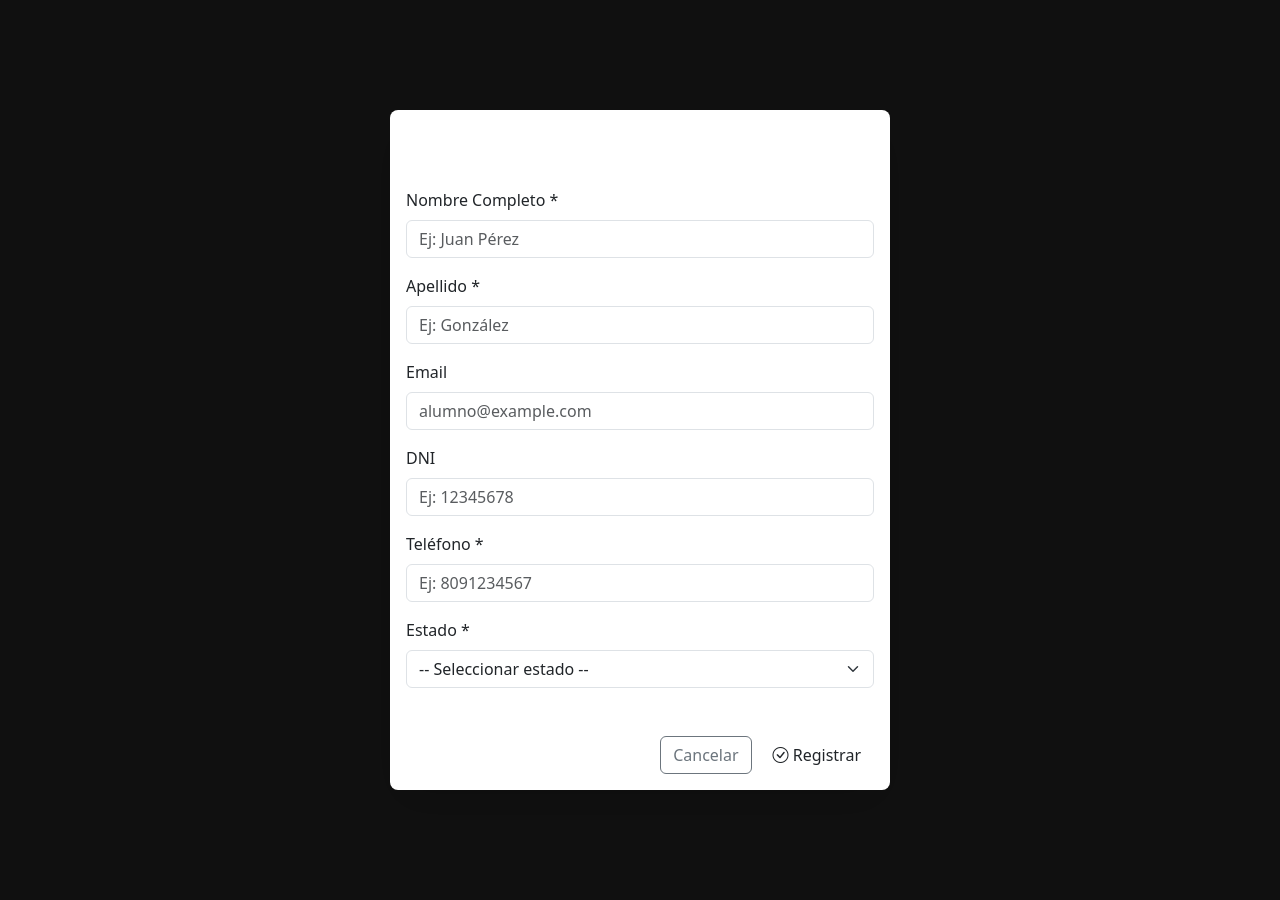
Test: registrarAlumnoModal › should show error message on submission failure
This screenshot has width=1280, height=900.
Type "Juan" into the field with id "alumno-nombre".
click(640, 239); type("Juan")  # box 406,220 -> 874,258
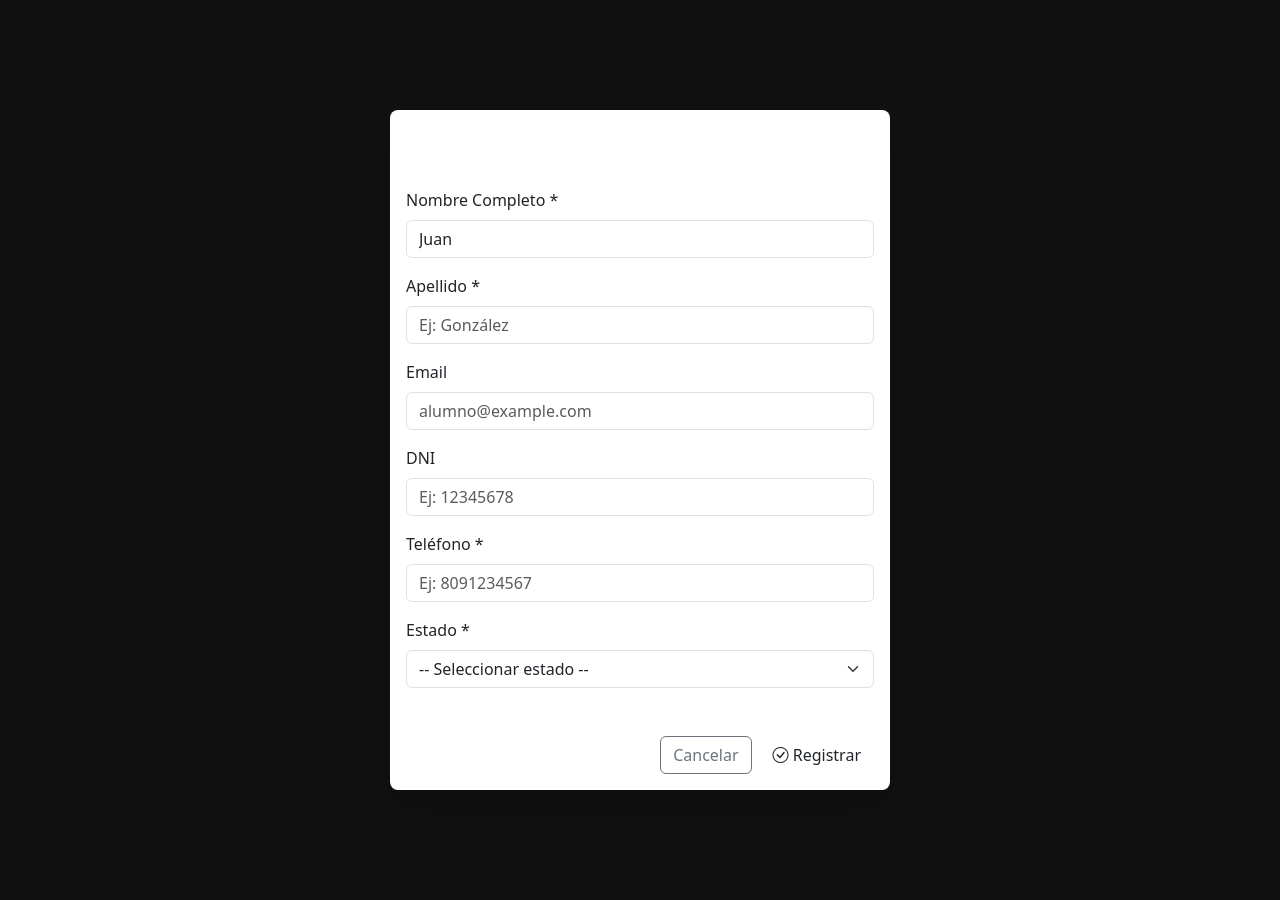
Type "Pérez" into the field with id "alumno-apellido".
click(640, 325); type("Pérez")  # box 406,306 -> 874,344
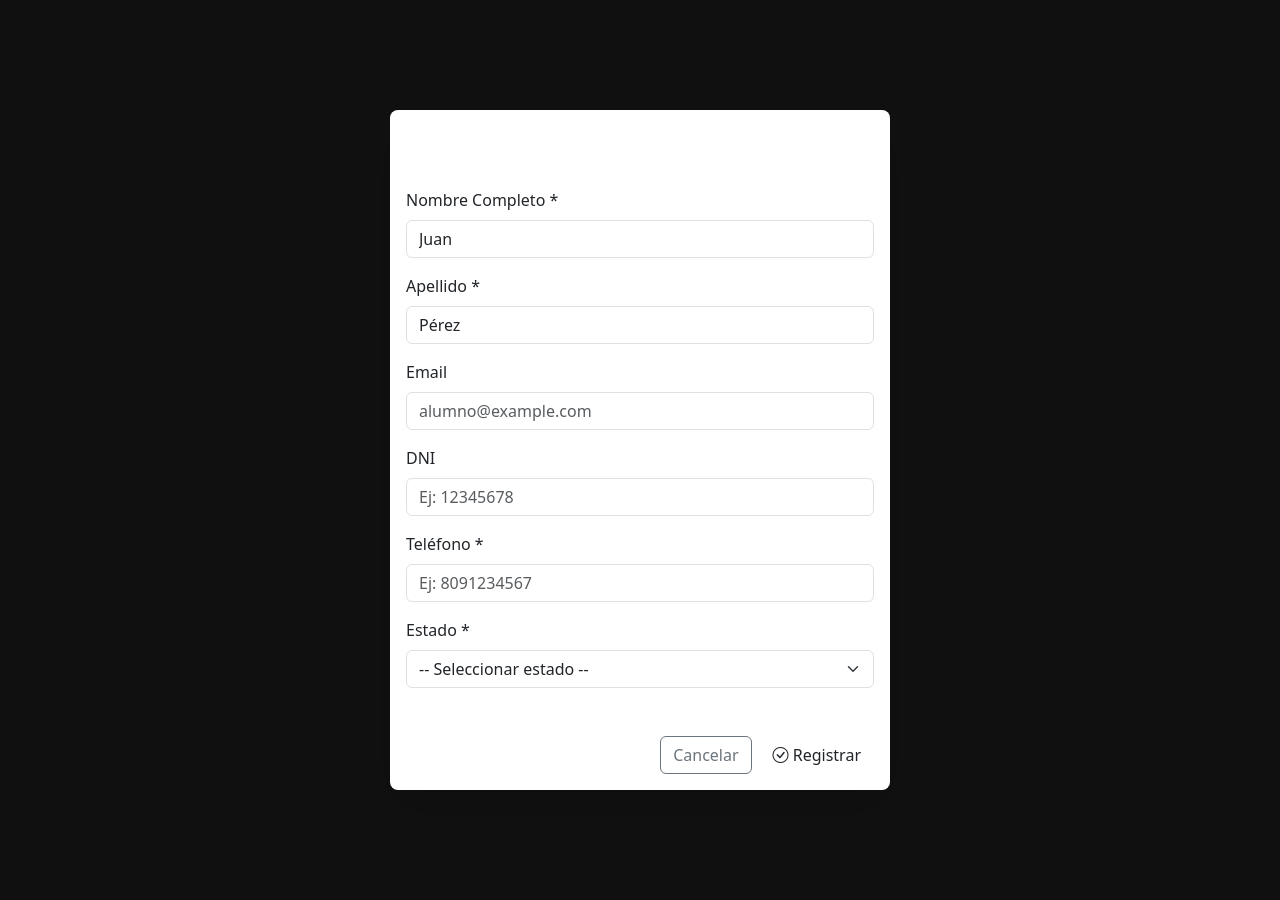
Type "8091234567" into the field with id "alumno-tlf".
click(640, 583); type("8091234567")  # box 406,564 -> 874,602
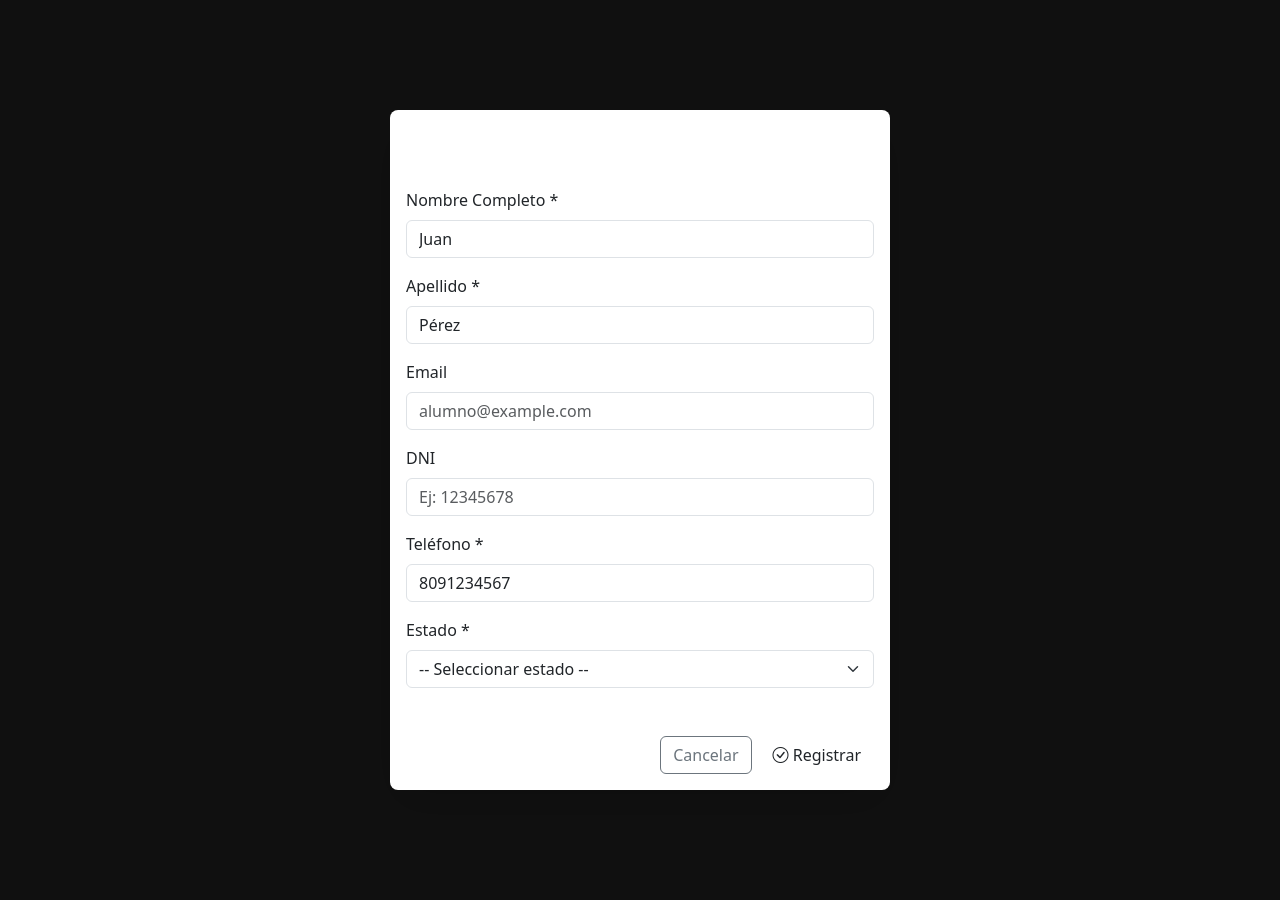
Select "Activo" in the dropdown with id "alumno-estado" at (640, 669), box 406,650 -> 874,688
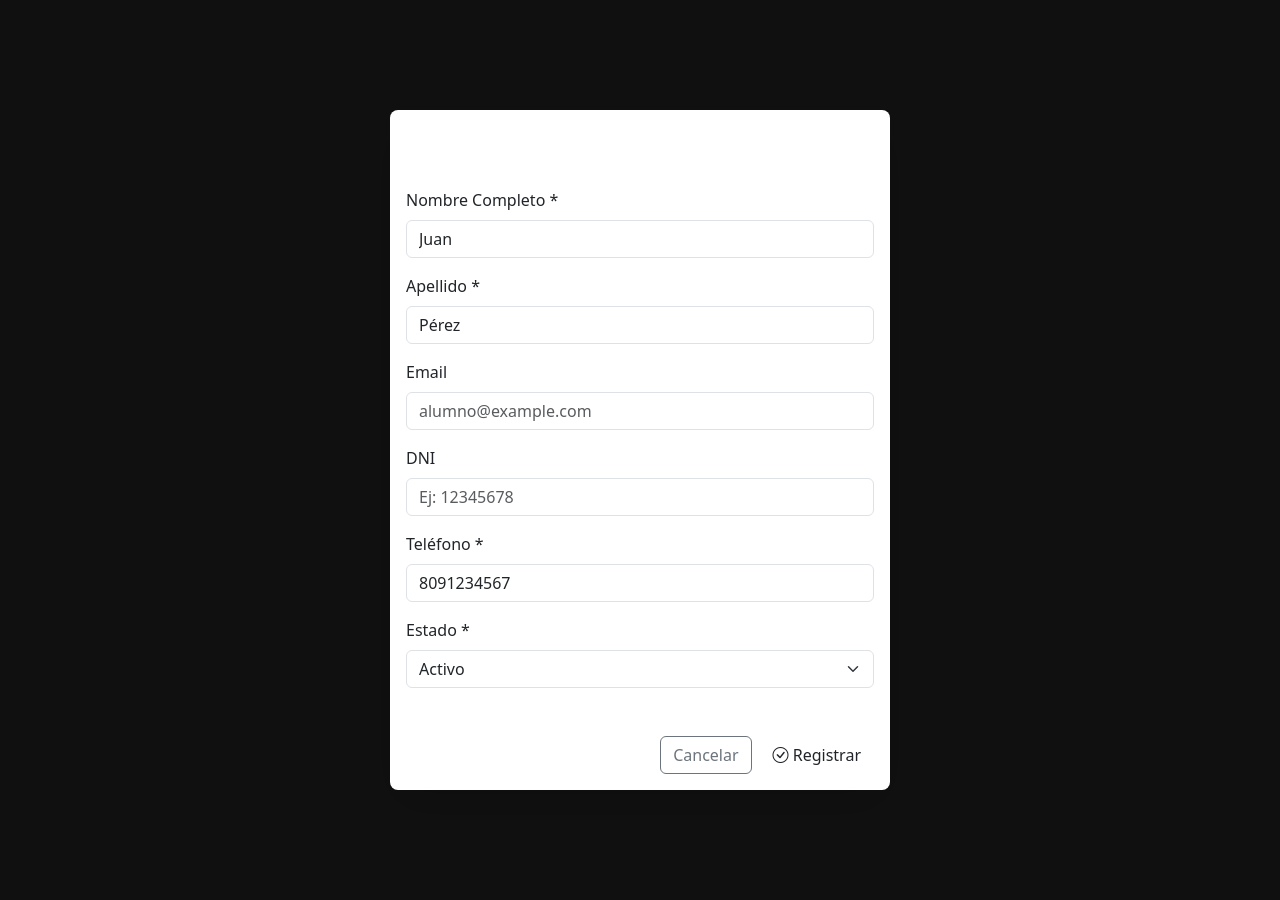
Click the button with id "btn-registrar-alumno".
click(817, 755)  # box 760,736 -> 874,774
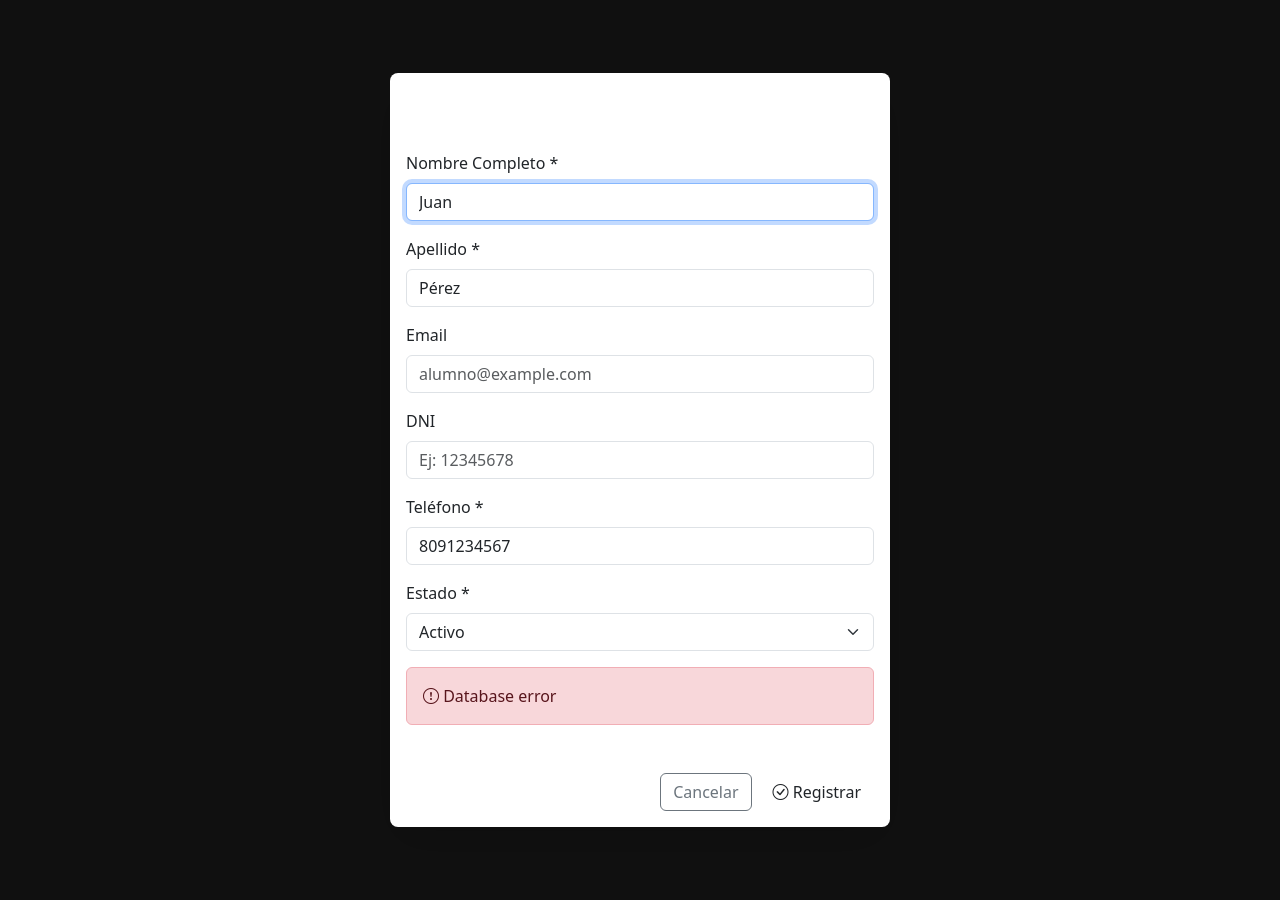
expect the text with id "registrar-alumno-error-message" reads "Database error": met, box 443,685 -> 556,707
